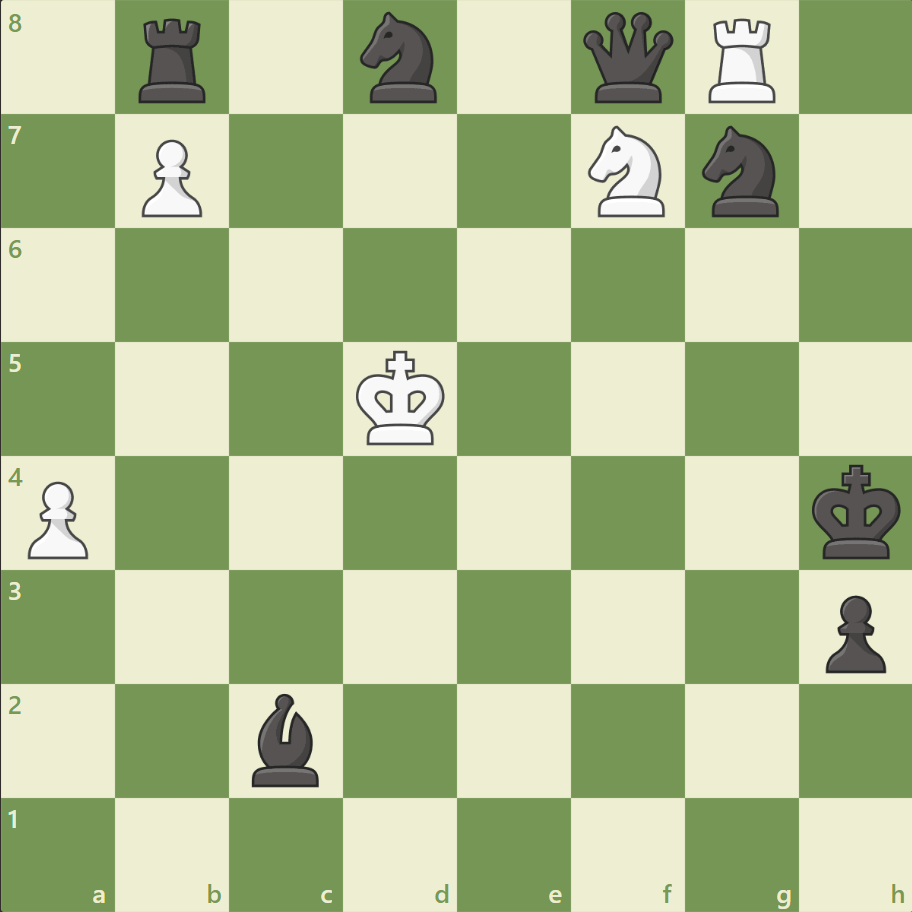K: (351, 344, 451, 452)
N: (579, 121, 676, 223)
P: (133, 132, 208, 223), (20, 473, 95, 564)
R: (700, 12, 783, 109)
b: (244, 687, 328, 790)
k: (806, 458, 906, 566)
n: (351, 7, 449, 110), (692, 121, 789, 223)
p: (815, 586, 889, 677)
q: (578, 9, 677, 108)
r: (133, 12, 215, 109)
